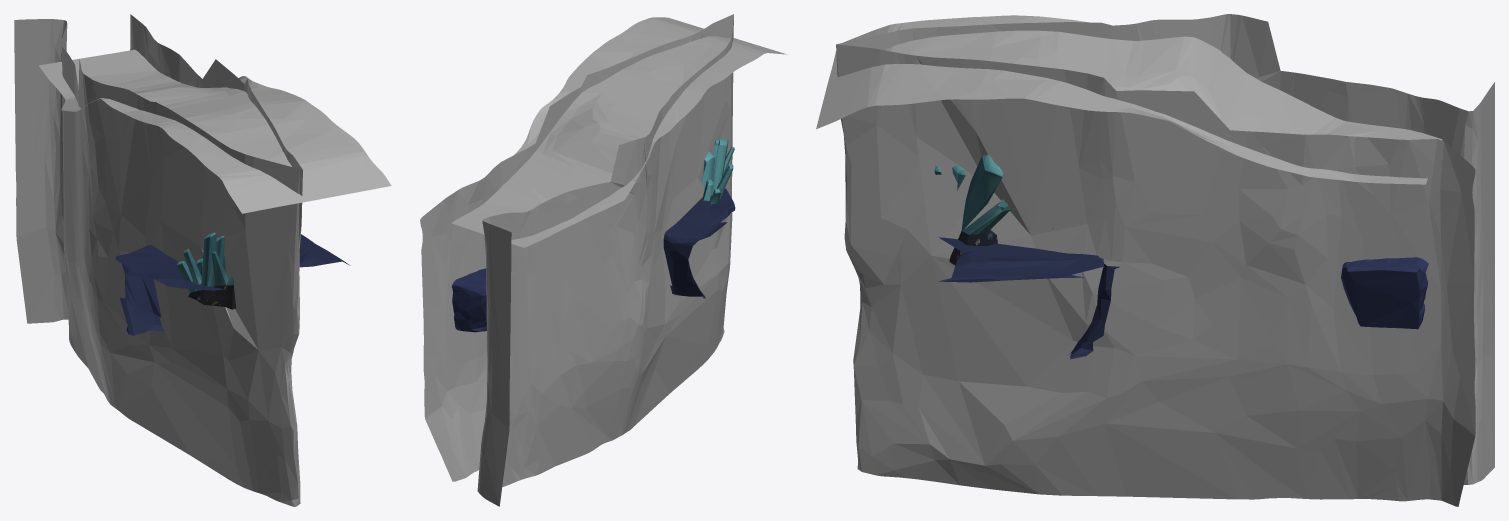
The picture shows the model from 3 angles, left to right: view 1: azimuth 30°, elevation 25°; view 2: azimuth 150°, elevation 25°; view 3: azimuth 270°, elevation 25°; orthographic projection. The views are drawn at different scales.
Visible parts, largest first — view 1: CA3_wall, CA3_ceiling, CA3_ground, pCube176; view 2: CA3_wall, CA3_ceiling, CA3_ground, CA1_wall_embellishment2_UVd10, pCube176; view 3: CA3_wall, CA3_ceiling, CA3_ground, CA1_wall_embellishment2_UVd10, pCube176.
Part boxes in pixels (<box>): CA3_wall: <box>14,14,302,506</box>; CA3_ceiling: <box>39,49,391,213</box>; CA3_ground: <box>115,234,350,335</box>; pCube176: <box>177,232,236,309</box>; CA3_wall: <box>420,14,733,506</box>; CA3_ceiling: <box>451,17,787,247</box>; CA3_ground: <box>663,188,735,298</box>; CA1_wall_embellishment2_UVd10: <box>451,268,486,332</box>; pCube176: <box>701,138,734,204</box>; CA3_wall: <box>836,14,1494,506</box>; CA3_ceiling: <box>816,15,1442,184</box>; CA3_ground: <box>938,237,1119,359</box>; CA1_wall_embellishment2_UVd10: <box>1341,257,1428,329</box>; pCube176: <box>934,154,1010,265</box>.
Size of the model in its own units: 231 by 447 by 642.
